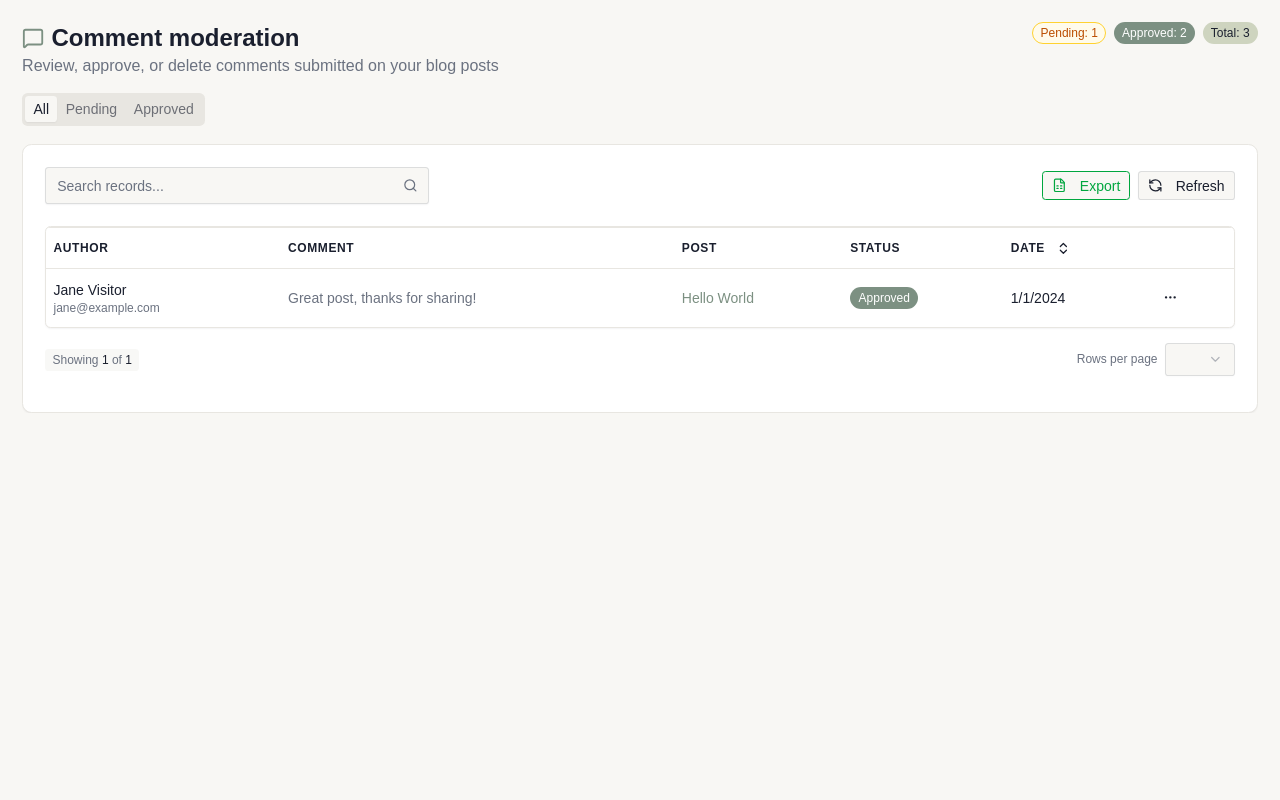
it: AdminCommentManager - delete flow › deletes a comment (with confirm), refreshes the list, and toasts on success
This screenshot has width=1280, height=800.
Expected: the text "Jane Visitor" is shown, [54,282,126,298]
Press the mouse on the button named "open menu" at (1170, 298), box [1156,283,1185,312]
Click the button named "open menu" at (1170, 298), box [1156,283,1185,312]
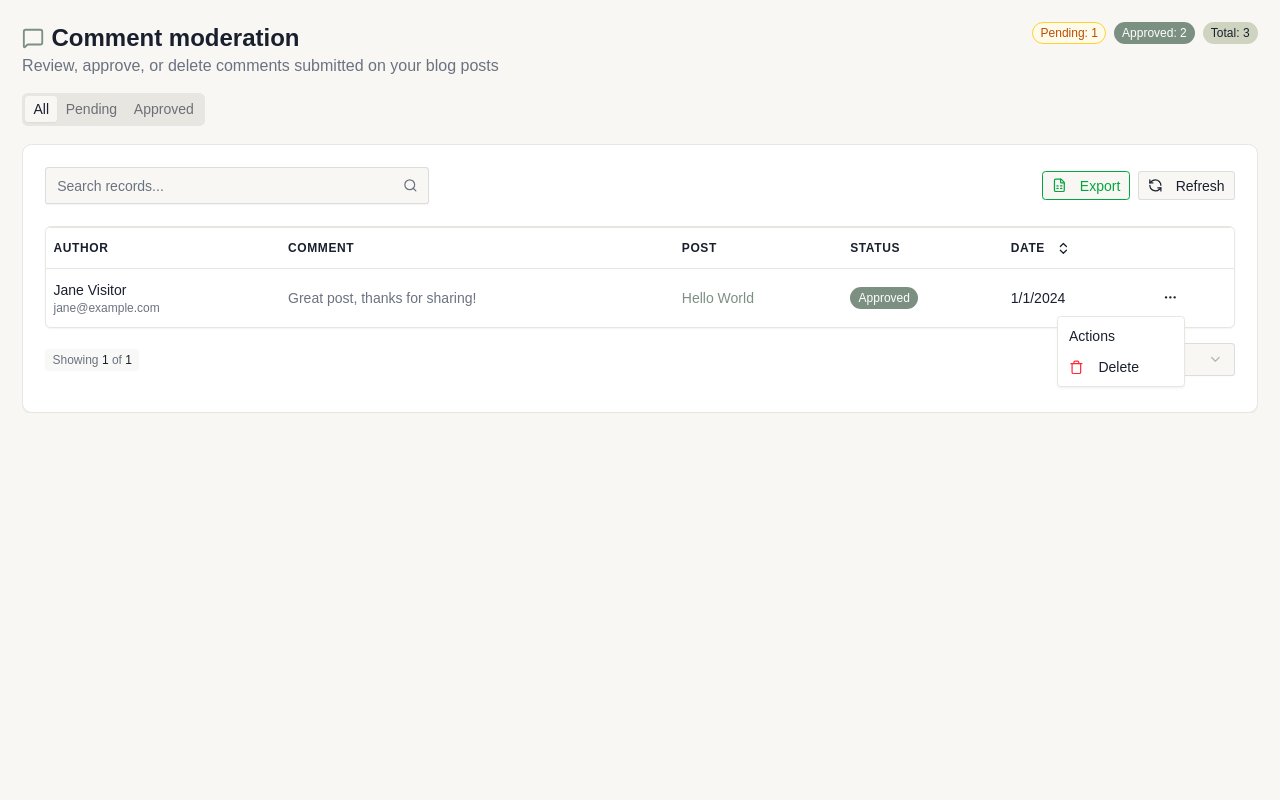
Click the menu item "Delete" at (1104, 367), box [1069,359,1139,375]
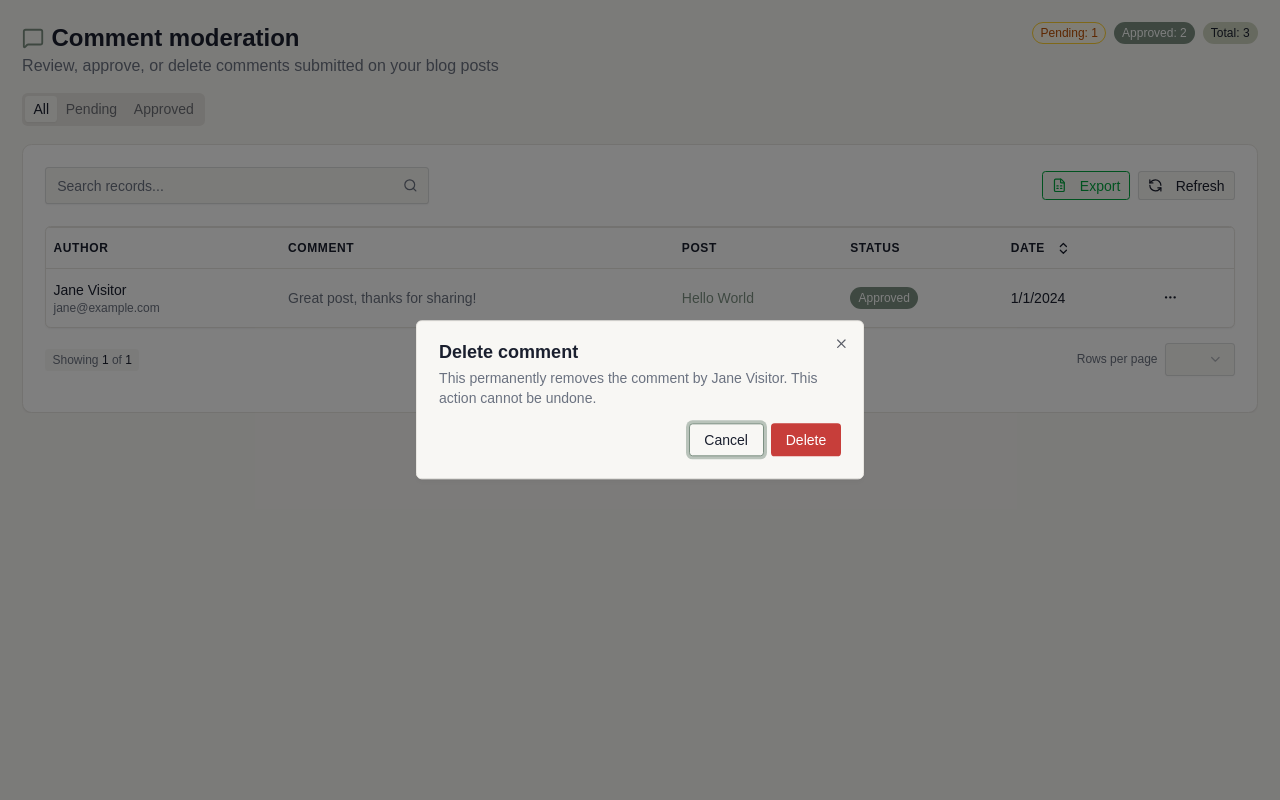
Expected: the heading "Delete comment" is shown, [439,342,578,362]
Click the button "Delete" at (806, 440), box [771,424,841,457]
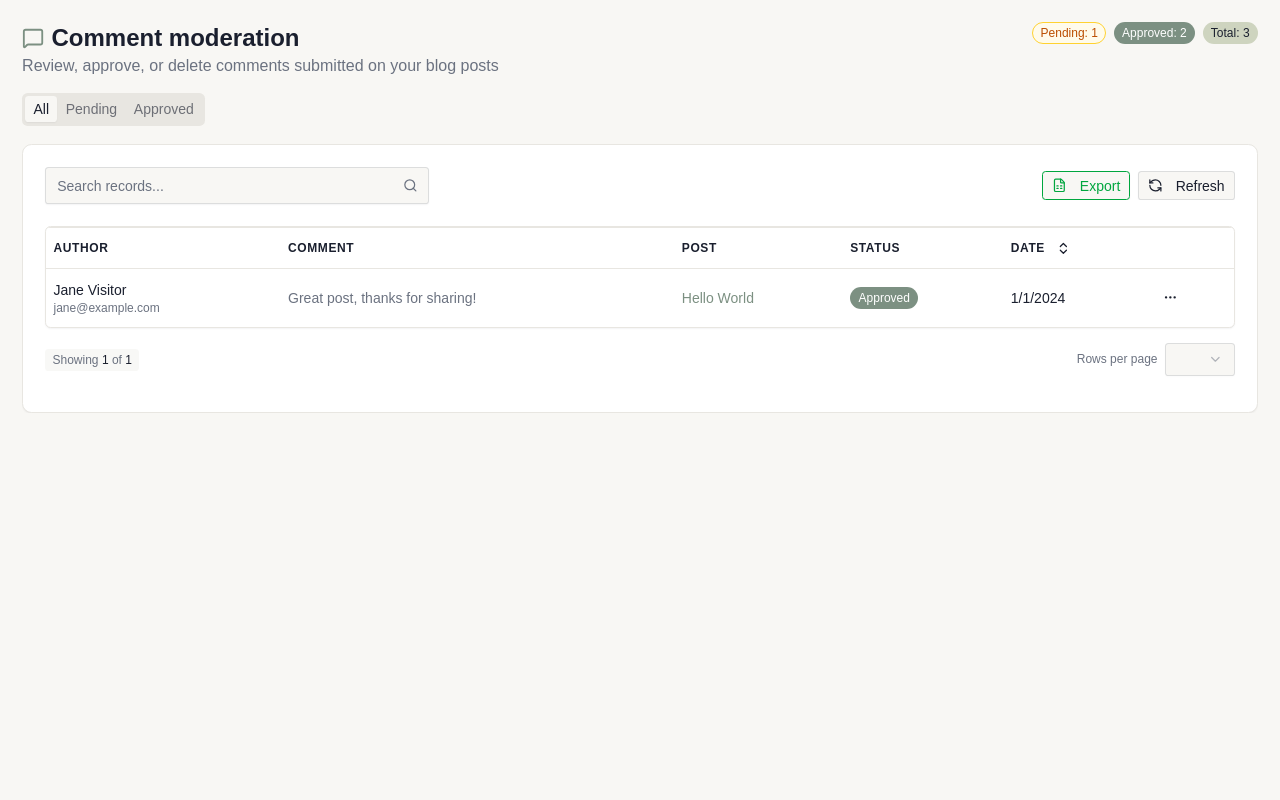
Expected: the dialog is gone
